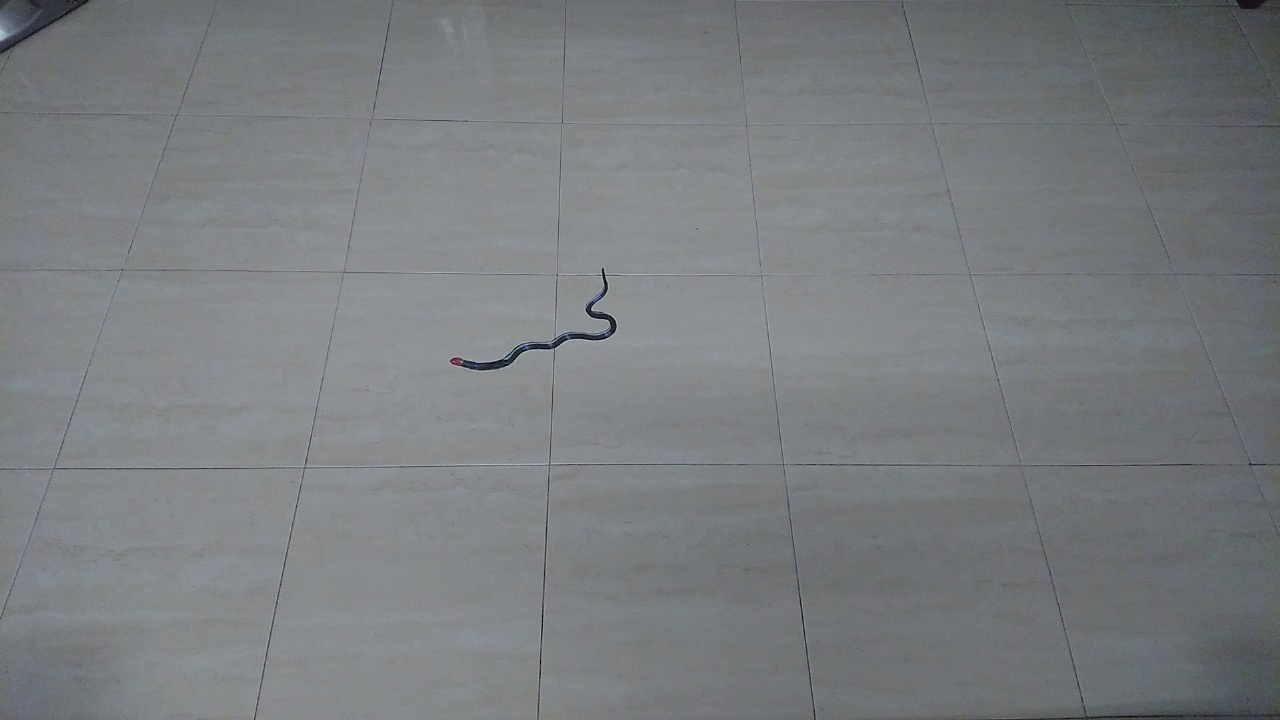snake: (437, 261, 633, 383)
